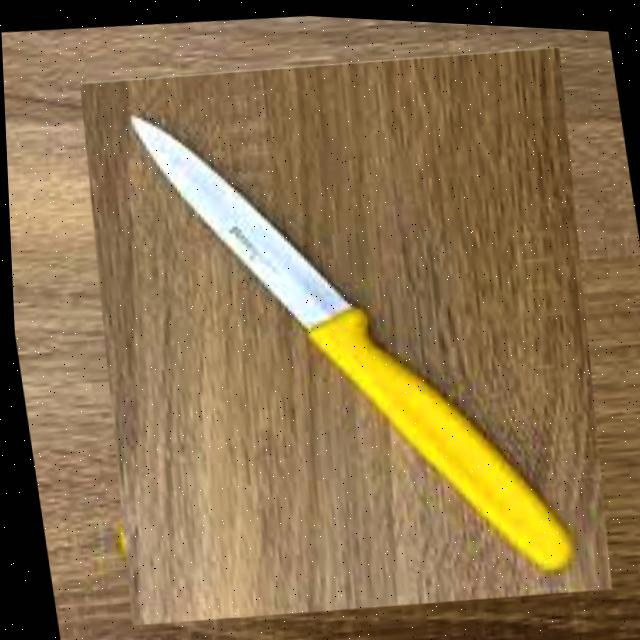knife: (36, 31, 640, 631)
